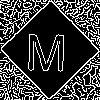M: (25, 25, 68, 71)
